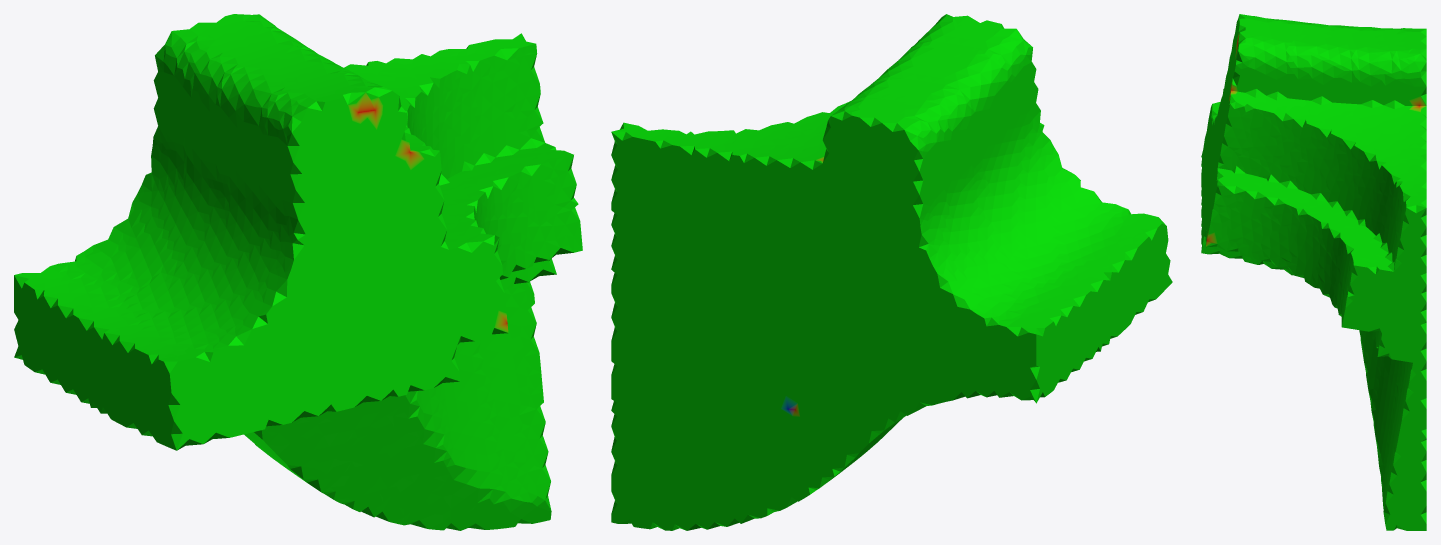
The model's file is after_cleaning_reconquest_0.obj.
3 renders of one model, left to right at view 1: azimuth 30°, elevation 25°; view 2: azimuth 150°, elevation 25°; view 3: azimuth 270°, elevation 25°, orthographic. The views are drawn at different scales.
Bounding box in the file's own units: 0.9206 × 1 × 0.5111.
